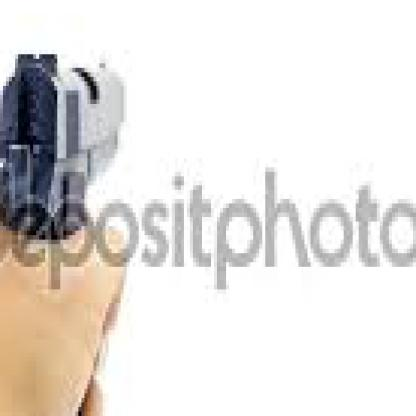gun: (0, 32, 157, 412)
